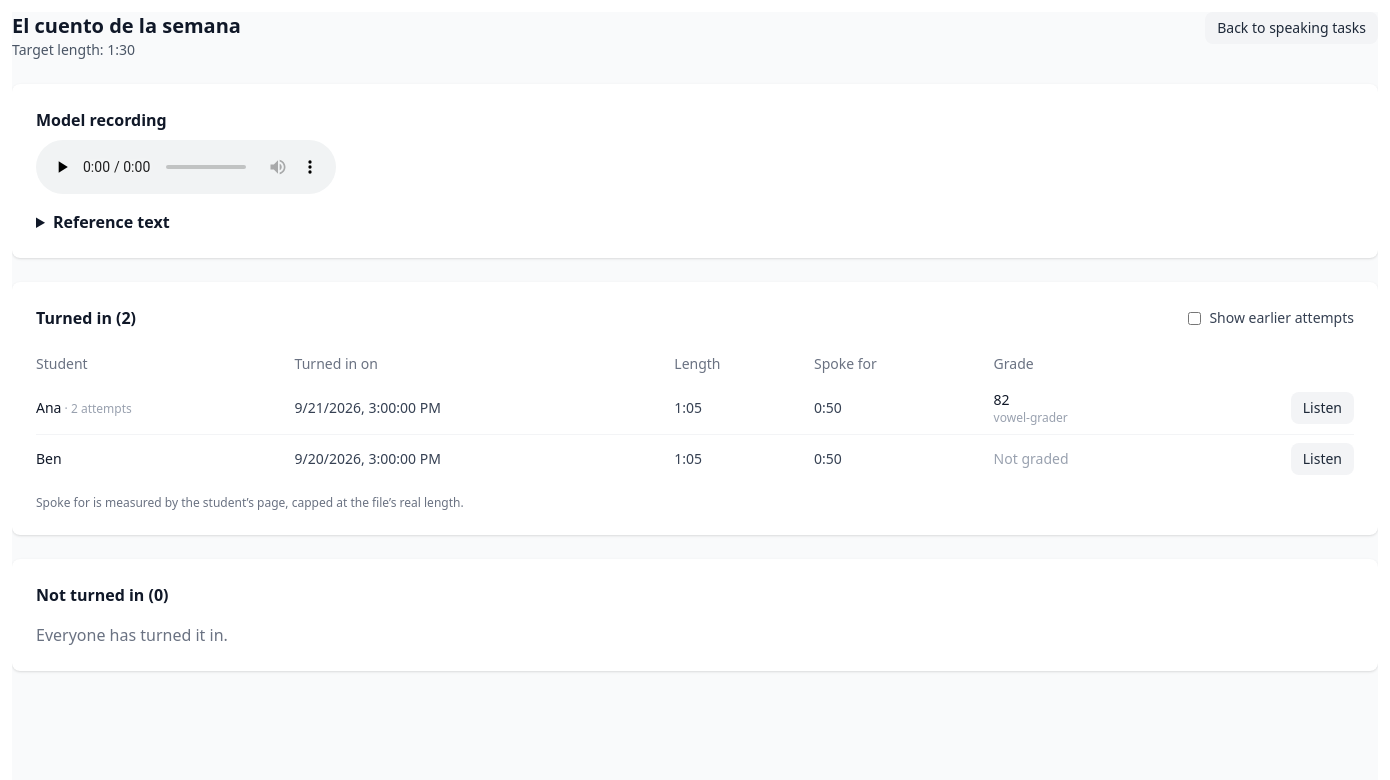
Test: SpeakingReview › shows the grade with who graded it
Expected: the text "82" is shown, [994,390,1010,409]
Expected: the text "vowel-grader" is shown, [994,409,1068,426]
Click the button "Listen" in the row of "2 attempts": (1322, 408) [1291,392,1354,424]
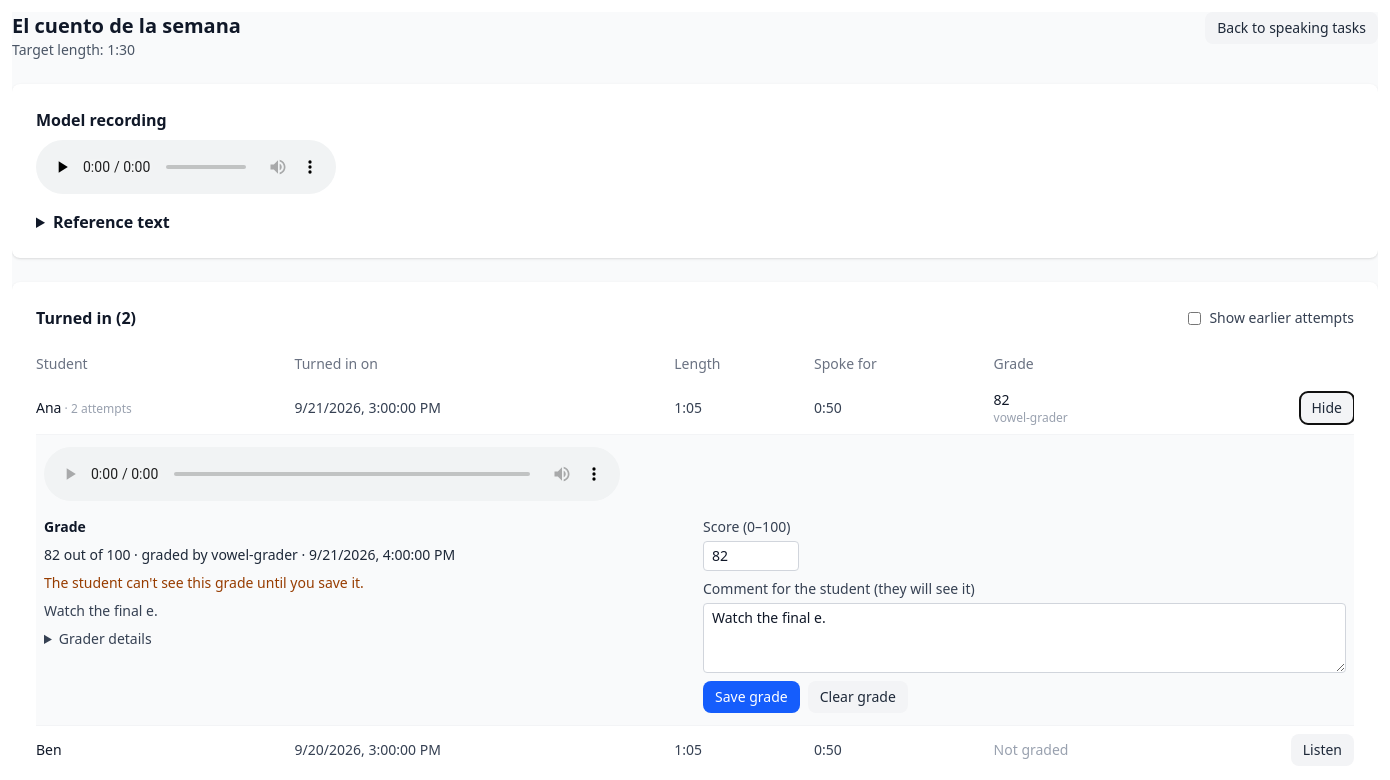
Result: the text "82 out of 100" is shown at [44,545,130,564]
Result: the text "graded by vowel-grader" is shown at [142,545,298,564]
Result: the text "Watch the final e." is shown at [44,601,158,620]
